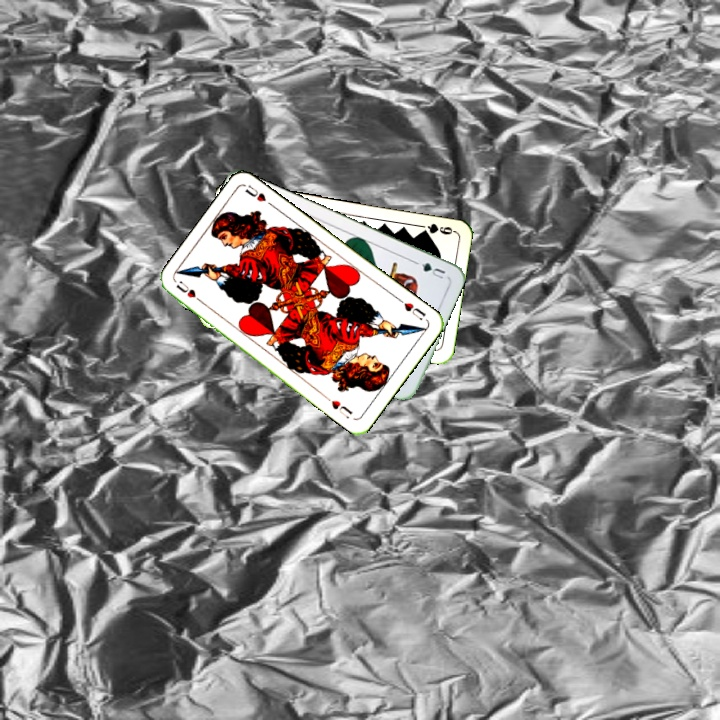G9: (417, 220, 457, 237)
GU: (417, 258, 448, 282)
HU: (171, 277, 207, 307), (394, 295, 428, 323)
